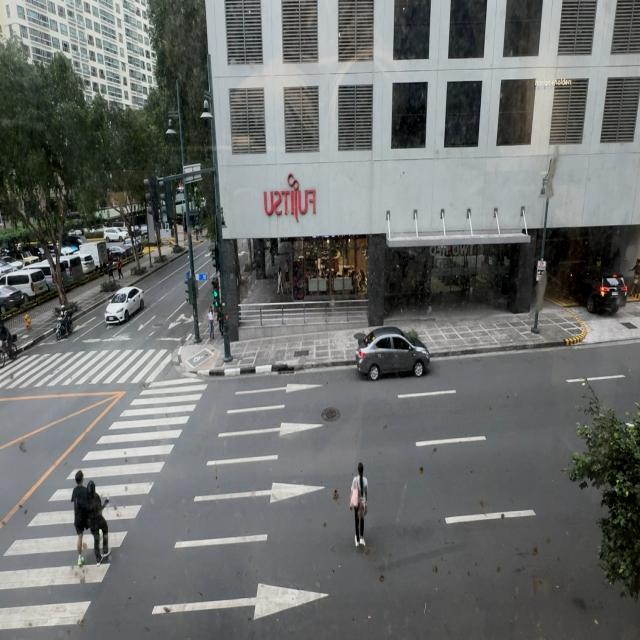jaywalking: (350, 462, 370, 546)
waiting: (208, 299, 215, 351), (217, 305, 224, 337)
